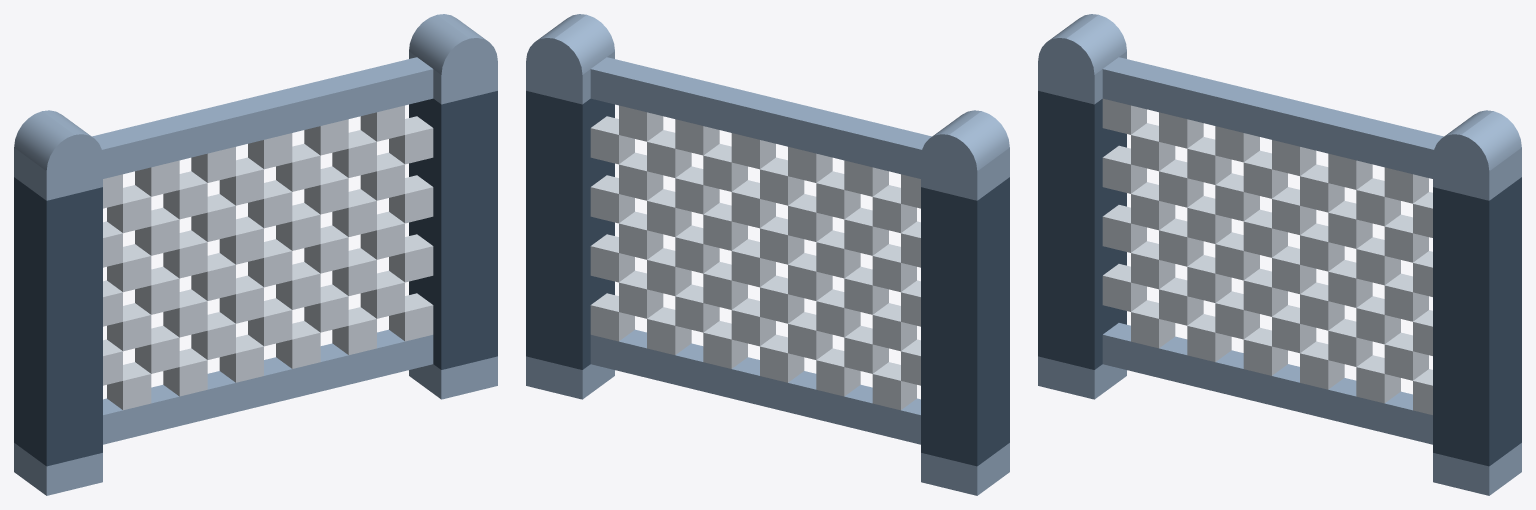
File: fence-wire.glb
3 views of the same model, side by side, from view 1: azimuth 30°, elevation 25°; view 2: azimuth 150°, elevation 25°; view 3: azimuth 330°, elevation 25° (orthographic).
Visible parts, largest first — view 1: generated(Clone); view 2: generated(Clone); view 3: generated(Clone).
Boxes of the visible parts, <box> form: generated(Clone): <box>14,14,497,495</box>; generated(Clone): <box>526,14,1009,495</box>; generated(Clone): <box>1038,14,1521,495</box>.
Bounding box in the file's own units: 16 × 12 × 2.
